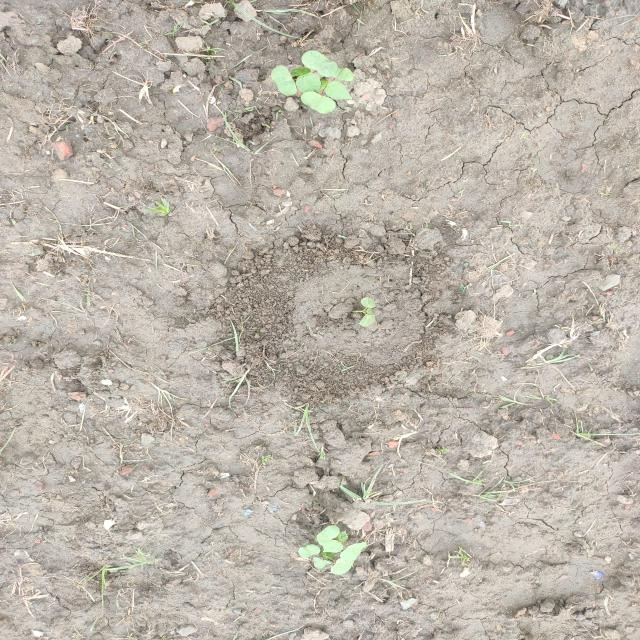seedling_s4: (302, 50, 338, 77), (300, 91, 336, 114), (271, 65, 297, 96), (340, 542, 366, 562), (325, 81, 353, 99), (296, 73, 321, 93), (317, 526, 340, 545), (330, 558, 353, 575), (298, 544, 320, 558), (332, 68, 354, 81), (323, 540, 343, 553), (313, 557, 331, 569), (359, 314, 376, 326), (291, 67, 311, 76), (360, 298, 376, 308)
